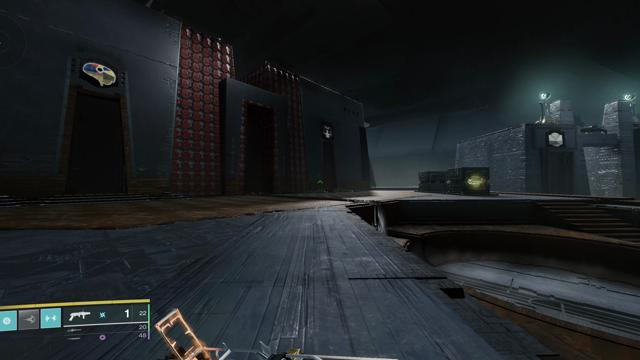brain: (78, 58, 118, 89)
commune: (549, 133, 563, 147)
drink: (323, 124, 332, 138)
